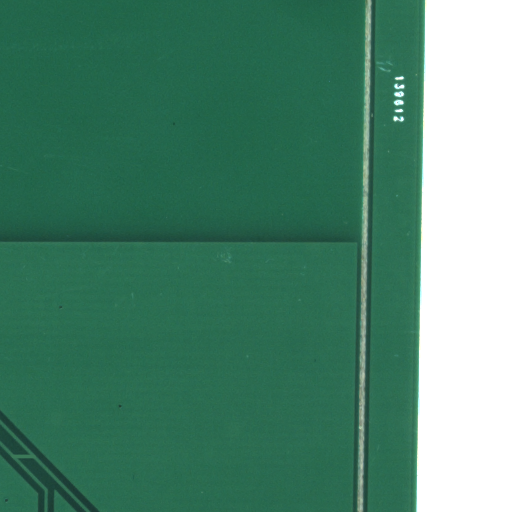Short: (24, 456, 47, 465)
